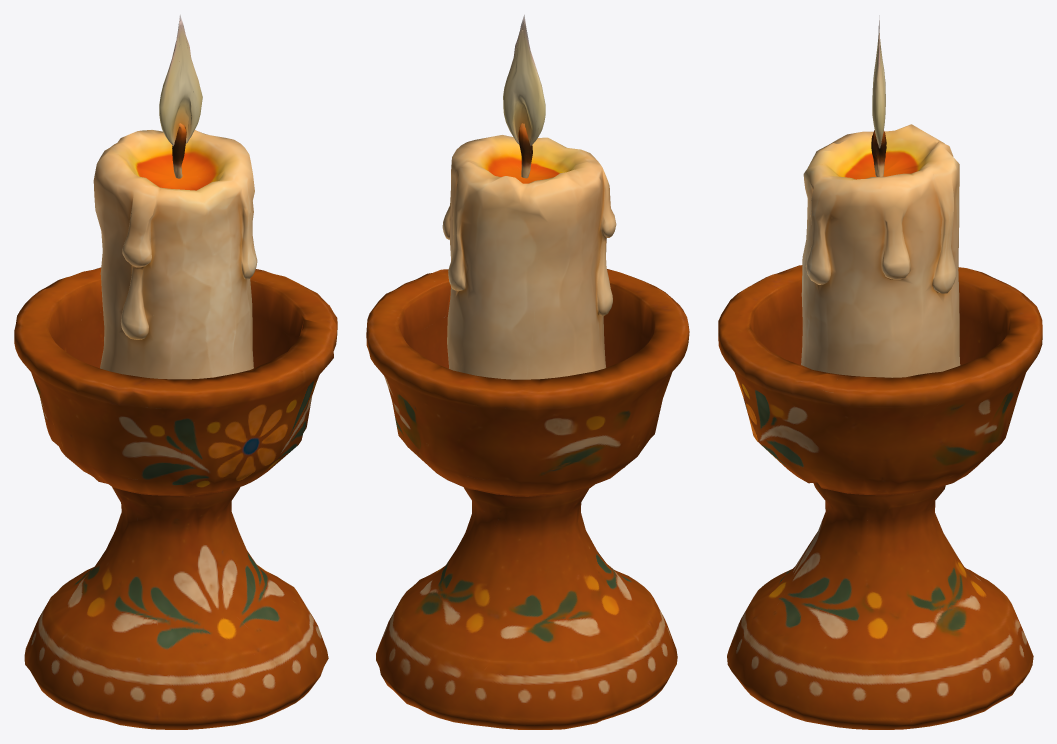
The model's file is Meshy_AI_Day_of_the_Dead_Candleholder_20261110_texture.obj.
3 views of the same model, side by side, from view 1: azimuth 30°, elevation 25°; view 2: azimuth 150°, elevation 25°; view 3: azimuth 270°, elevation 25° (orthographic).
Parts seen in each view (by area): view 1: Meshy_AI_Day_of_the_Dead_Candleholder_20261110_texture; view 2: Meshy_AI_Day_of_the_Dead_Candleholder_20261110_texture; view 3: Meshy_AI_Day_of_the_Dead_Candleholder_20261110_texture.
Boxes of the visible parts, bbox=[...] form: Meshy_AI_Day_of_the_Dead_Candleholder_20261110_texture: bbox=[14, 14, 337, 729]; Meshy_AI_Day_of_the_Dead_Candleholder_20261110_texture: bbox=[366, 14, 689, 729]; Meshy_AI_Day_of_the_Dead_Candleholder_20261110_texture: bbox=[718, 15, 1042, 729].
Bounding box in the file's own units: 0.4277 × 0.9497 × 0.4253.
1 material, 1 textured.
